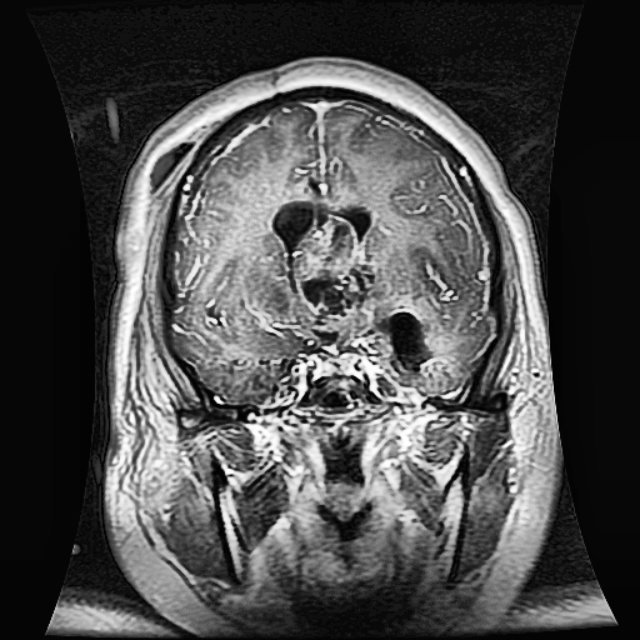Meningioma: (272, 195, 433, 380)
